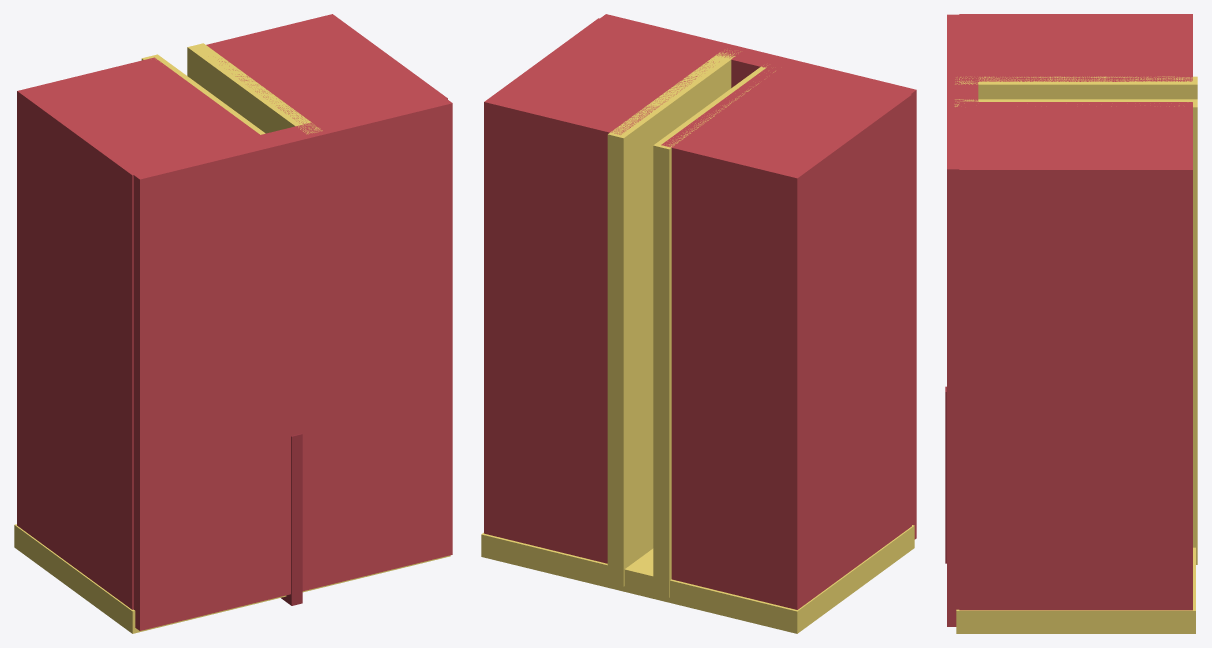
File: oficial_vermelho_saia.glb
3 views of the same model, side by side, from view 1: azimuth 30°, elevation 25°; view 2: azimuth 150°, elevation 25°; view 3: azimuth 270°, elevation 25° (orthographic). The views are drawn at different scales.
Visible parts, largest first — view 1: oficial_vermelho_saia; view 2: oficial_vermelho_saia; view 3: oficial_vermelho_saia.
Part boxes in pixels (x1=…): oficial_vermelho_saia: x1=14, y1=14, x2=452, y2=633; oficial_vermelho_saia: x1=481, y1=14, x2=916, y2=633; oficial_vermelho_saia: x1=945, y1=14, x2=1197, y2=633.
Size of the model in its own units: 0.59 by 0.82 by 0.4.
